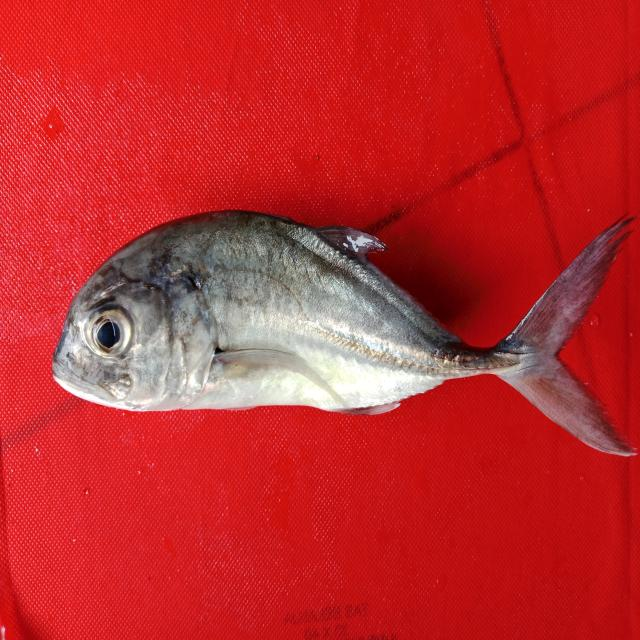ikan: (49, 165, 633, 474)
